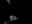person: (8, 13, 16, 20), (5, 1, 13, 6), (4, 19, 8, 23)
